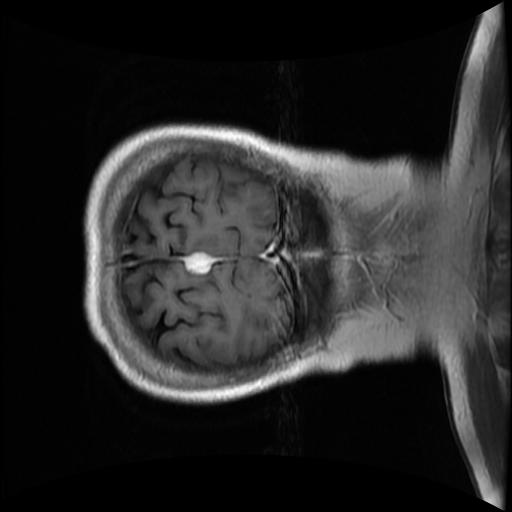meningioma: (181, 250, 212, 274)
